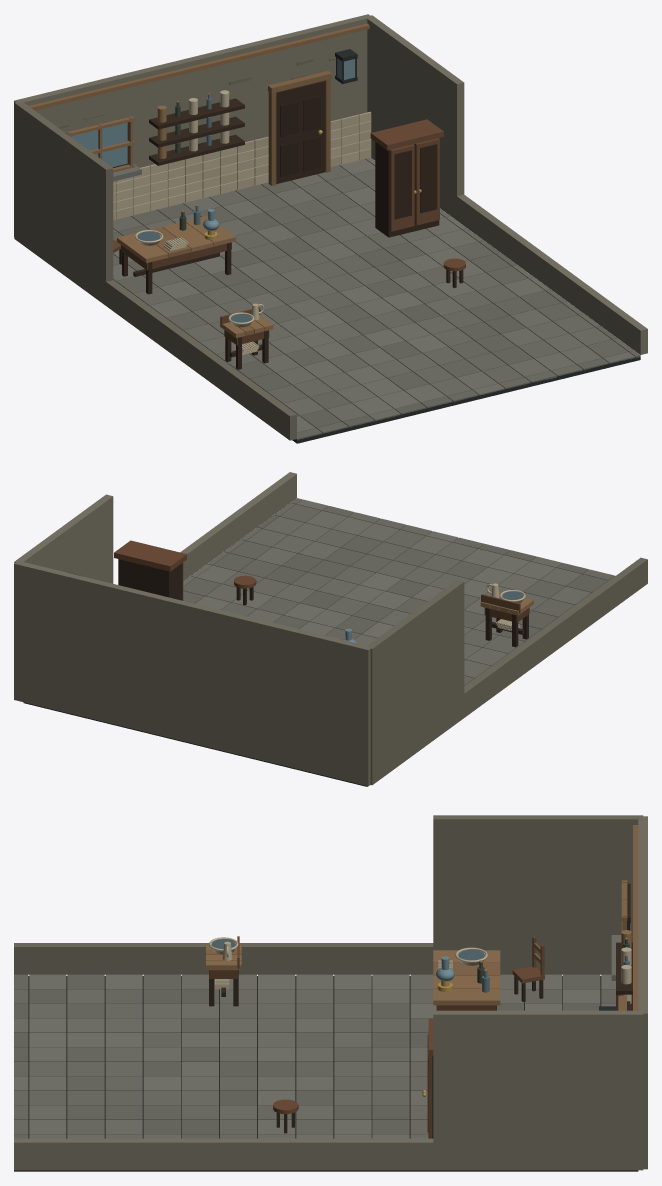
File: alden-workroom.glb
3 views of the same model, one above another, from view 1: azimuth 30°, elevation 25°; view 2: azimuth 150°, elevation 25°; view 3: azimuth 270°, elevation 25° (orthographic). The views are drawn at different scales.
Visible parts, largest first — view 1: alden-workroom-stone, alden-workroom-plaster, alden-workroom-woodDark, alden-workroom-linen, alden-workroom-woodLight, alden-workroom-wood, alden-workroom-glass, alden-workroom-iron; view 2: alden-workroom-plaster, alden-workroom-stone, alden-workroom-woodDark, alden-workroom-wood, alden-workroom-iron; view 3: alden-workroom-plaster, alden-workroom-stone, alden-workroom-woodLight, alden-workroom-iron, alden-workroom-wood, alden-workroom-woodDark, alden-workroom-linen, alden-workroom-glass.
Boxes of the visible parts, box(x1,y1,x2,y2) form: alden-workroom-stone: box(113, 157, 640, 440); alden-workroom-plaster: box(14, 14, 647, 440); alden-workroom-woodDark: box(113, 81, 463, 369); alden-workroom-linen: box(113, 90, 371, 354); alden-workroom-woodLight: box(29, 23, 369, 338); alden-workroom-wood: box(113, 119, 465, 345); alden-workroom-glass: box(71, 58, 355, 322); alden-workroom-iron: box(292, 49, 640, 443); alden-workroom-plaster: box(14, 472, 647, 786); alden-workroom-stone: box(183, 498, 615, 686); alden-workroom-woodDark: box(118, 559, 528, 647); alden-workroom-wood: box(114, 540, 529, 622); alden-workroom-iron: box(23, 572, 367, 786); alden-workroom-plaster: box(14, 815, 647, 1170); alden-workroom-stone: box(14, 935, 621, 1138); alden-workroom-woodLight: box(206, 825, 638, 1010); alden-workroom-iron: box(14, 976, 638, 1171); alden-workroom-wood: box(209, 936, 544, 1138); alden-workroom-woodDark: box(209, 883, 632, 1138); alden-workroom-linen: box(208, 924, 631, 1003); alden-workroom-glass: box(211, 939, 629, 992).
Bounding box in the file's own units: 9.9 × 3.73 × 13.3.
